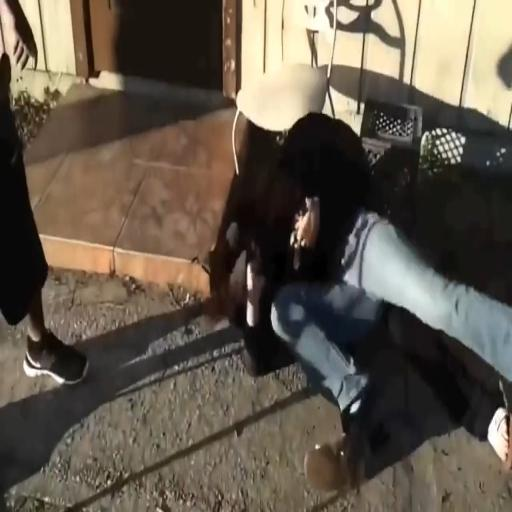violencia: (194, 78, 512, 498)
